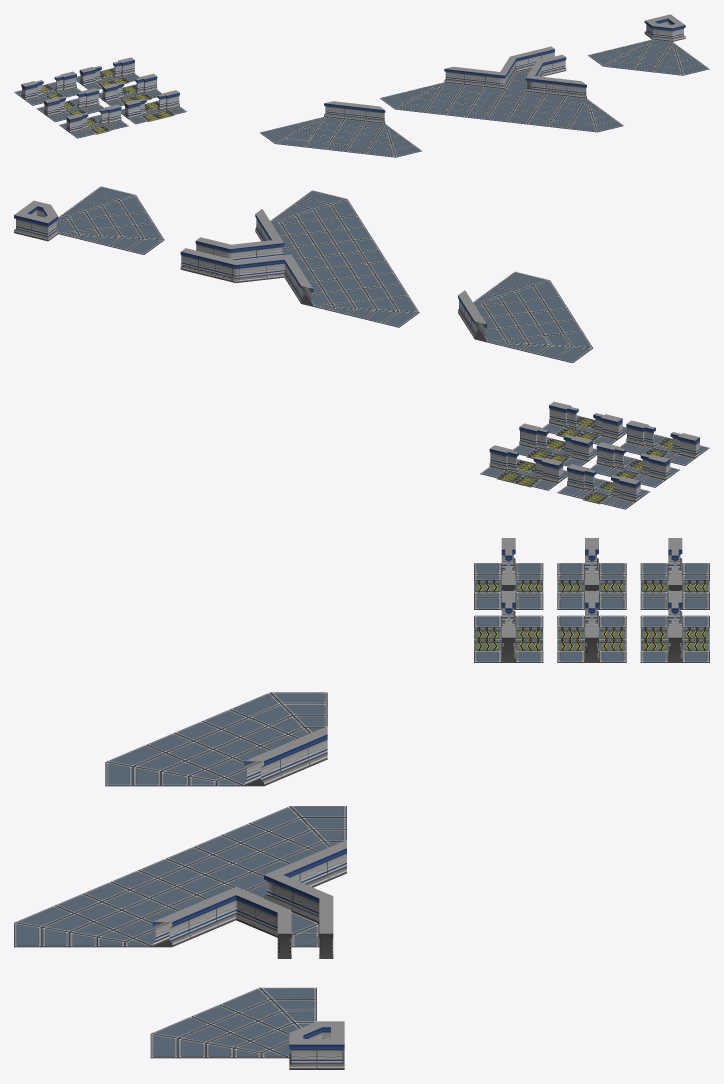
File: BuildsLab01.fbx
3 renders of one model, top to bottom at view 1: azimuth 30°, elevation 25°; view 2: azimuth 150°, elevation 25°; view 3: azimuth 270°, elevation 25°, orthographic. The views are drawn at different scales.
Parts seen in each view (by area): view 1: Box420, Box419, Box407, Box413, Box417, Box388, Box412, Box406, Box411, Box393, Box481, Box483 (+5 smaller); view 2: Box420, Box421, Box394, Box419; view 3: Box419, Box420, Box412, Box406, Box407, Box417, Box421, Box367, Box405, Box413.
Part boxes in pixels (x1,y1,x2,y2): Box420: (485, 66, 510, 89); Box419: (525, 69, 547, 93); Box407: (344, 102, 366, 121); Box413: (464, 68, 486, 86); Box417: (546, 77, 567, 95); Box388: (324, 101, 345, 118); Box412: (566, 79, 586, 98); Box406: (365, 105, 385, 123); Box411: (444, 66, 466, 84); Box393: (652, 24, 672, 41); Box481: (79, 67, 96, 85); Box483: (102, 83, 118, 102); Box420: (264, 254, 298, 284); Box421: (237, 257, 266, 282); Box394: (31, 215, 58, 241); Box419: (254, 231, 284, 258); Box419: (208, 887, 263, 927); Box420: (264, 863, 301, 909); Box412: (152, 910, 190, 947); Box406: (244, 749, 281, 786); Box407: (272, 738, 309, 778); Box417: (181, 898, 217, 939); Box421: (291, 882, 328, 923); Box367: (317, 1033, 344, 1069); Box405: (289, 1033, 316, 1069); Box413: (292, 851, 329, 887).
Bounding box in the file's own units: 1701 × 41.59 × 987.
1 material, 1 textured.
